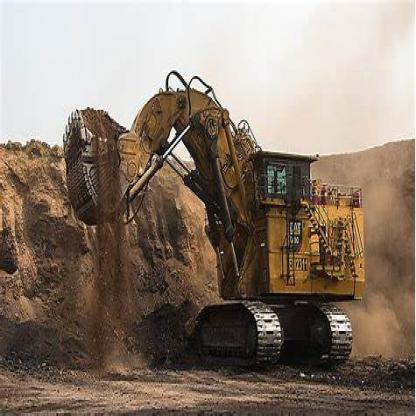excavator: (55, 73, 364, 375)
